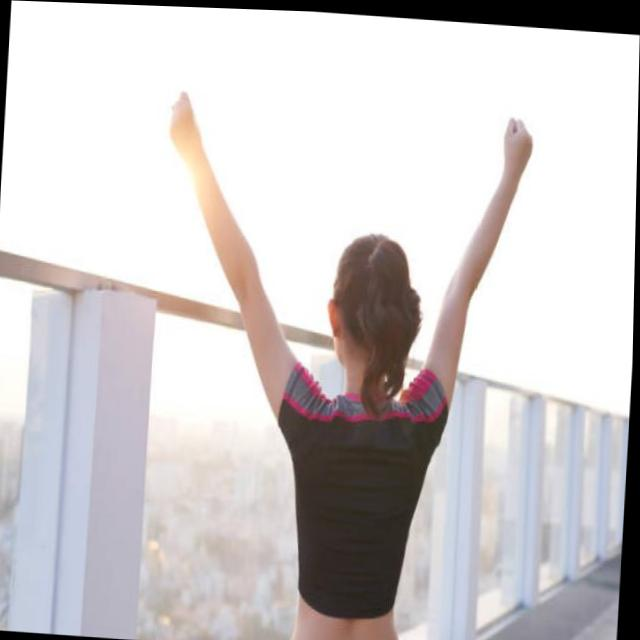no helmet: (321, 225, 427, 396)
